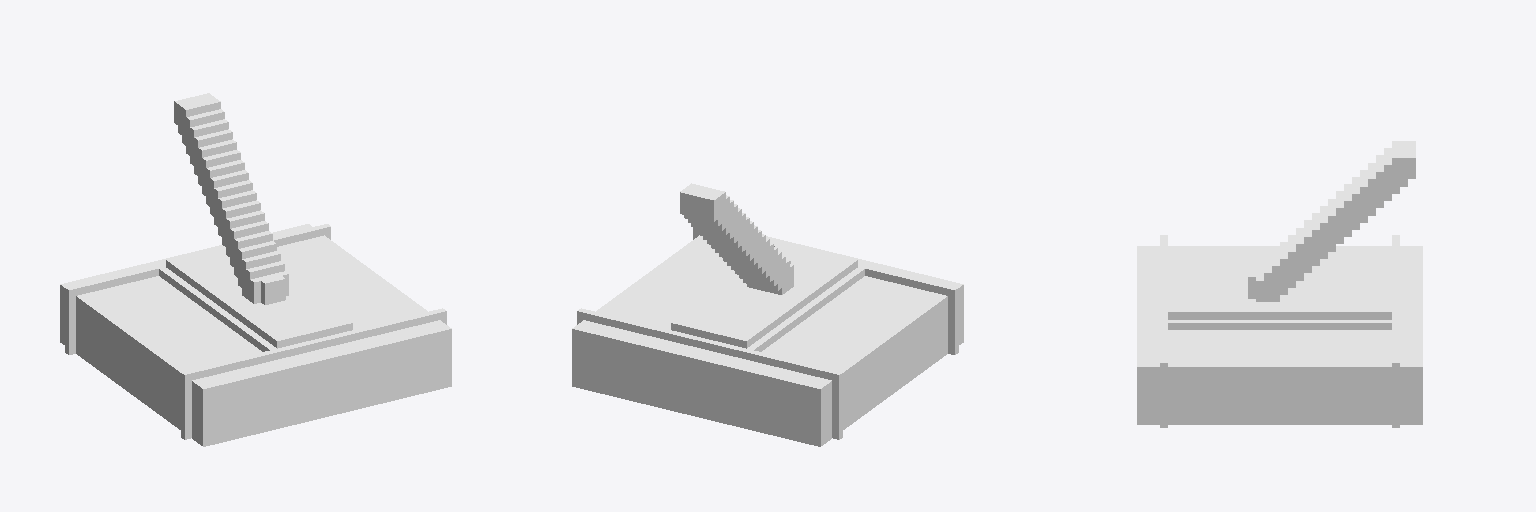
File: lever.obj
3 renders of one model, left to right at view 1: azimuth 30°, elevation 25°; view 2: azimuth 150°, elevation 25°; view 3: azimuth 270°, elevation 25°, orthographic.
Visible parts, largest first — view 1: object 1; view 2: object 1; view 3: object 1.
Boxes of the visible parts, box(x1,y1,x2,y2) form: object 1: box(60, 93, 451, 446); object 1: box(572, 183, 963, 446); object 1: box(1137, 141, 1422, 427).
Size of the model in its own units: 3.8 by 3 by 3.6.